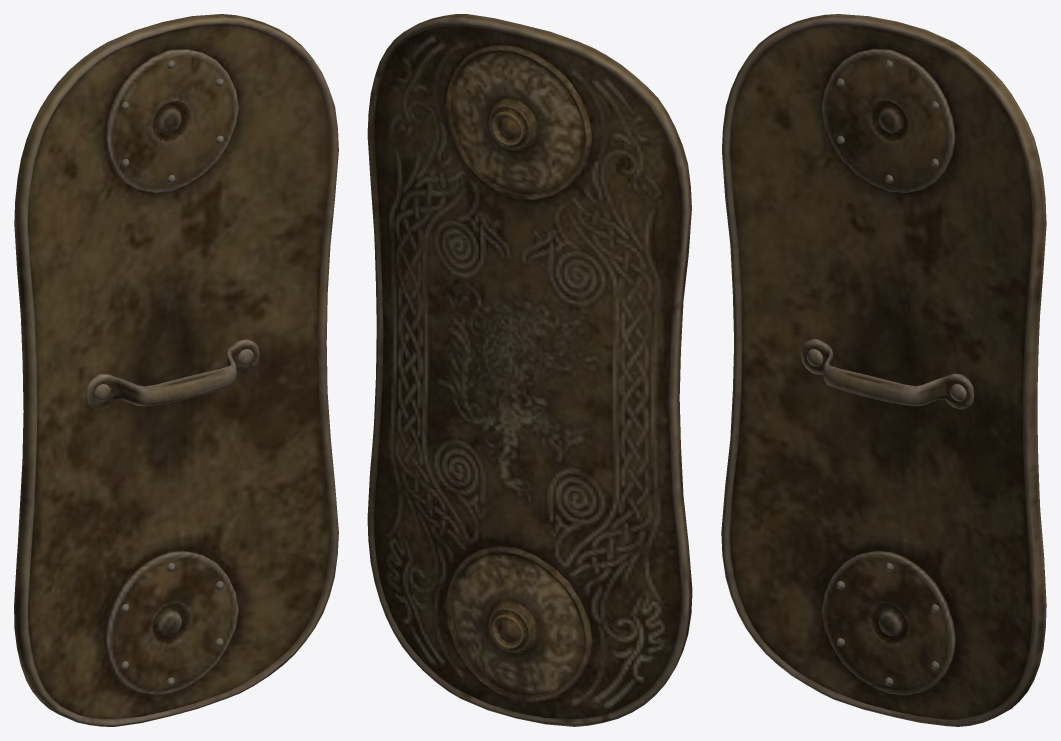
The model's file is weapon-wp_a_2207.glb.
The picture shows the model from 3 angles, left to right: view 1: azimuth 30°, elevation 25°; view 2: azimuth 150°, elevation 25°; view 3: azimuth 330°, elevation 25°; orthographic projection.
Parts seen in each view (by area): view 1: wp_a_2207_mesh; view 2: wp_a_2207_mesh; view 3: wp_a_2207_mesh.
Boxes of the visible parts, box(x1,y1,x2,y2) form: wp_a_2207_mesh: box(14, 14, 338, 726); wp_a_2207_mesh: box(367, 14, 692, 726); wp_a_2207_mesh: box(721, 14, 1046, 726).
Bounding box in the file's own units: 0.7129 × 1.46 × 0.1552.
1 material, 1 textured.
